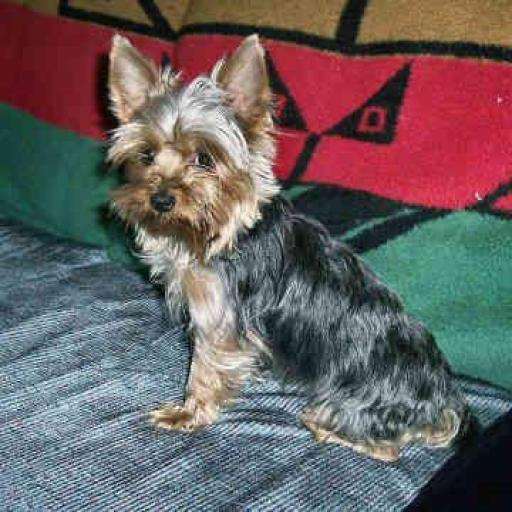dog_face: (105, 37, 263, 238)
